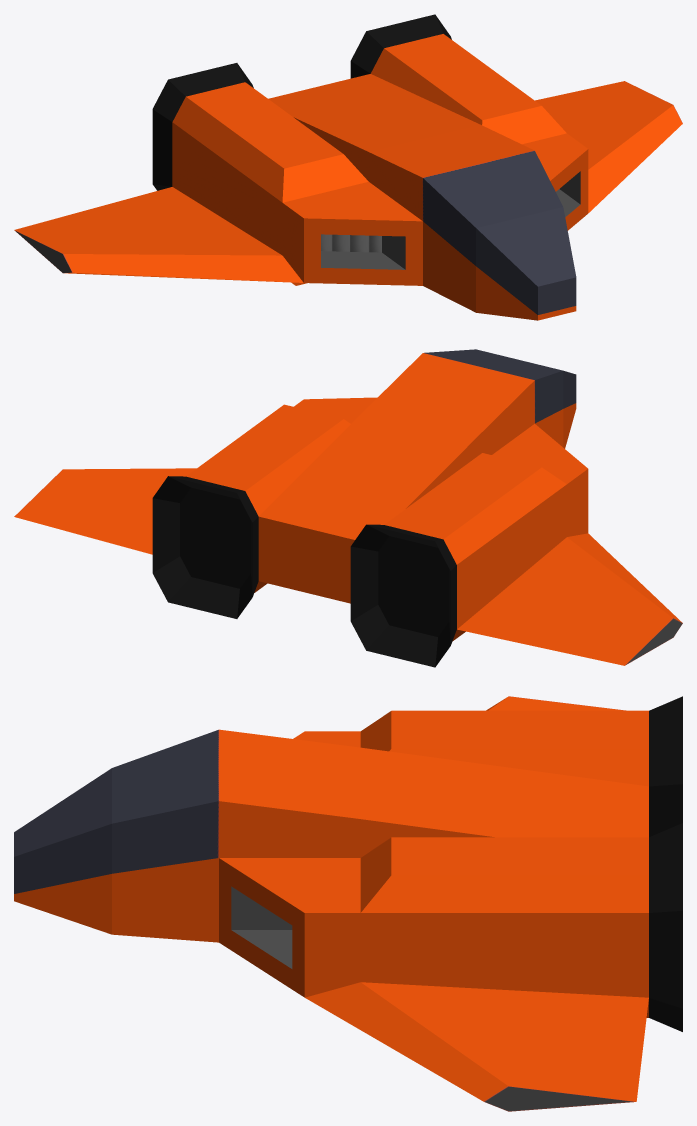
File: spaceship.obj
3 views of the same model, one above another, from view 1: azimuth 30°, elevation 25°; view 2: azimuth 150°, elevation 25°; view 3: azimuth 270°, elevation 25° (orthographic). The views are drawn at different scales.
Parts seen in each view (by area): view 1: Spaceship_Cube.002; view 2: Spaceship_Cube.002; view 3: Spaceship_Cube.002.
Part boxes in pixels (box(x1,y1,x2,y2)): Spaceship_Cube.002: box(14, 14, 682, 320); Spaceship_Cube.002: box(14, 349, 682, 667); Spaceship_Cube.002: box(14, 696, 682, 1111).
Bounding box in the file's own units: 4.29 × 0.9321 × 3.11.
1 material, 1 textured.
